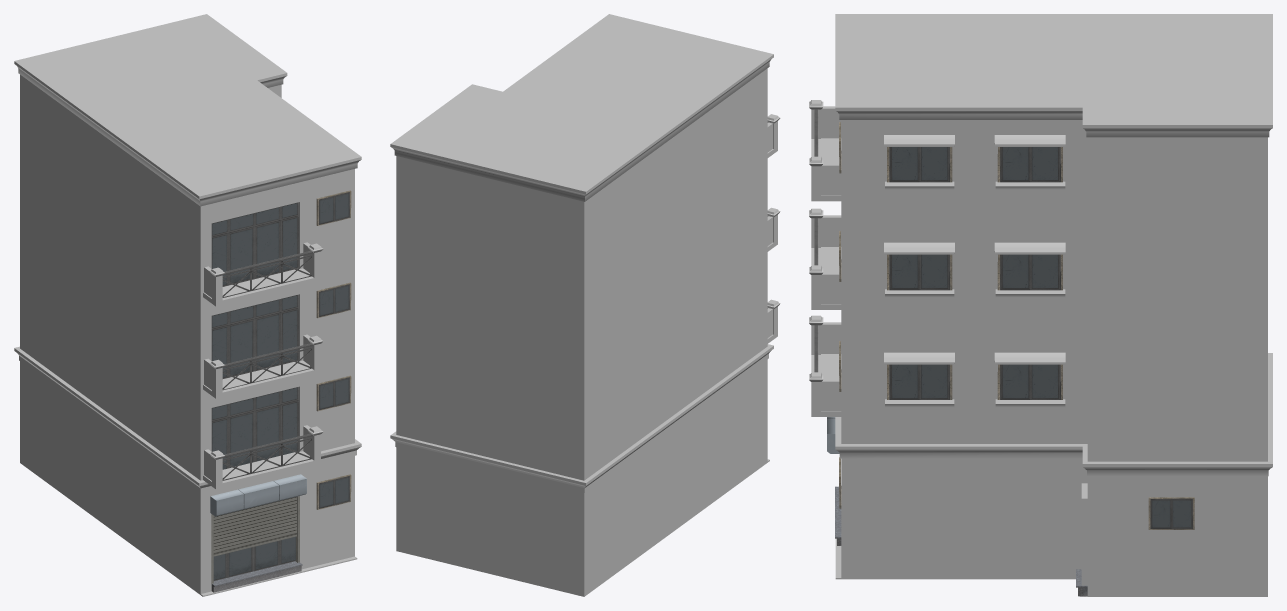
The model's file is SM_House_3HN_01V.fbx.
3 renders of one model, left to right at view 1: azimuth 30°, elevation 25°; view 2: azimuth 150°, elevation 25°; view 3: azimuth 270°, elevation 25°, orthographic. The views are drawn at different scales.
Parts seen in each view (by area): view 1: polySurface28, SM_Door_01, SM_Door_03, SM_Door_04, SM_Door_02, SM_Window_04, SM_Window_02, SM_Window_03, SM_Window_01; view 2: polySurface28; view 3: polySurface28, SM_Window_05, SM_Window_09, SM_Window_06, SM_Window_10, SM_Window_07, SM_Window_11, SM_Window_08.
Boxes of the visible parts, x1,y1,x2,y2 form: polySurface28: (14,14,361,596); SM_Door_01: (211,496,299,584); SM_Door_03: (211,294,298,378); SM_Door_04: (211,202,298,286); SM_Door_02: (211,387,298,469); SM_Window_04: (316,282,351,318); SM_Window_02: (316,375,351,411); SM_Window_03: (316,190,351,225); SM_Window_01: (316,474,351,509); polySurface28: (390,14,780,596); polySurface28: (809,14,1272,596); SM_Window_05: (887,254,952,290); SM_Window_09: (997,254,1062,290); SM_Window_06: (887,147,952,182); SM_Window_10: (887,364,952,399); SM_Window_07: (997,364,1062,399); SM_Window_11: (997,147,1062,182); SM_Window_08: (1148,497,1194,529).
Bounding box in the file's own units: 8.74 × 17.4 × 15.43.
